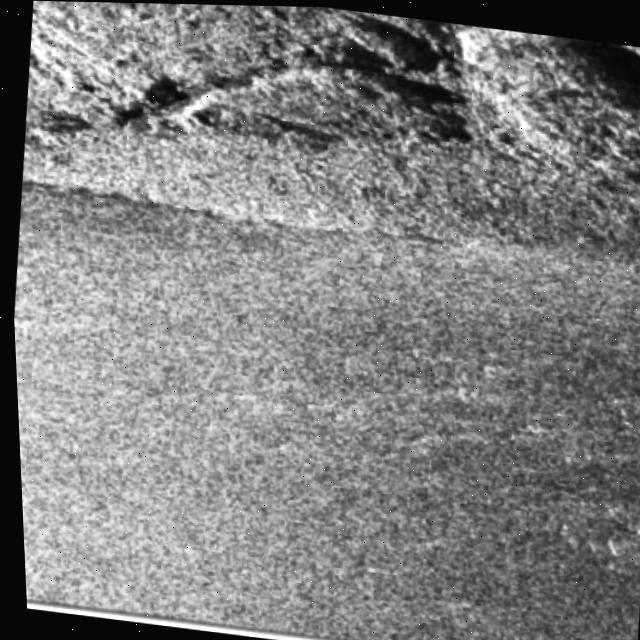bedrock group: (17, 0, 640, 219)
